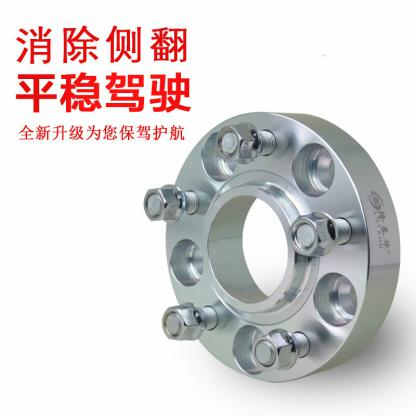FOD: (161, 107, 404, 383)
